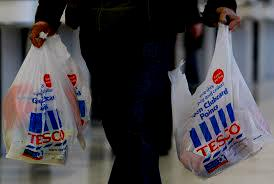Plastic: (167, 19, 273, 178), (0, 28, 88, 167)
